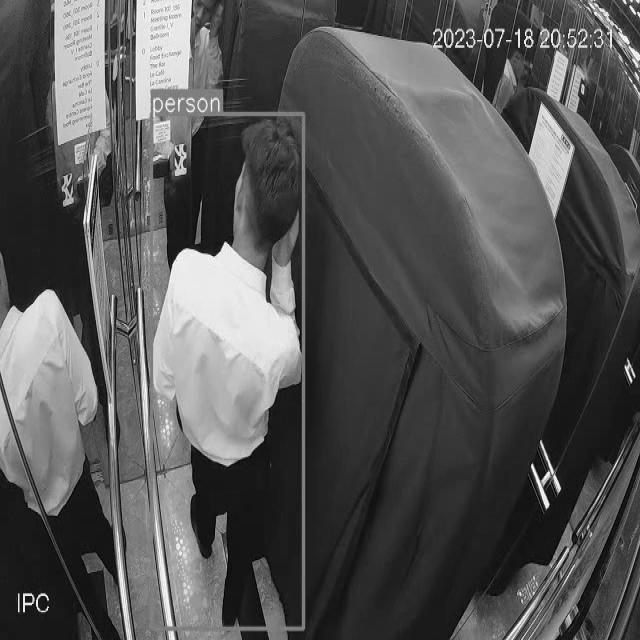person: (160, 103, 306, 615), (0, 164, 119, 621)
